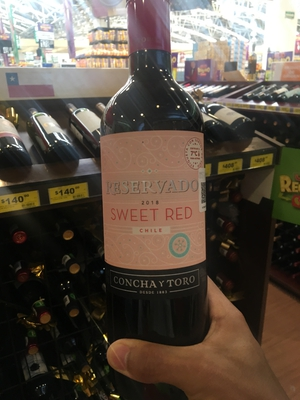reservado sweet red: (94, 11, 222, 366)
